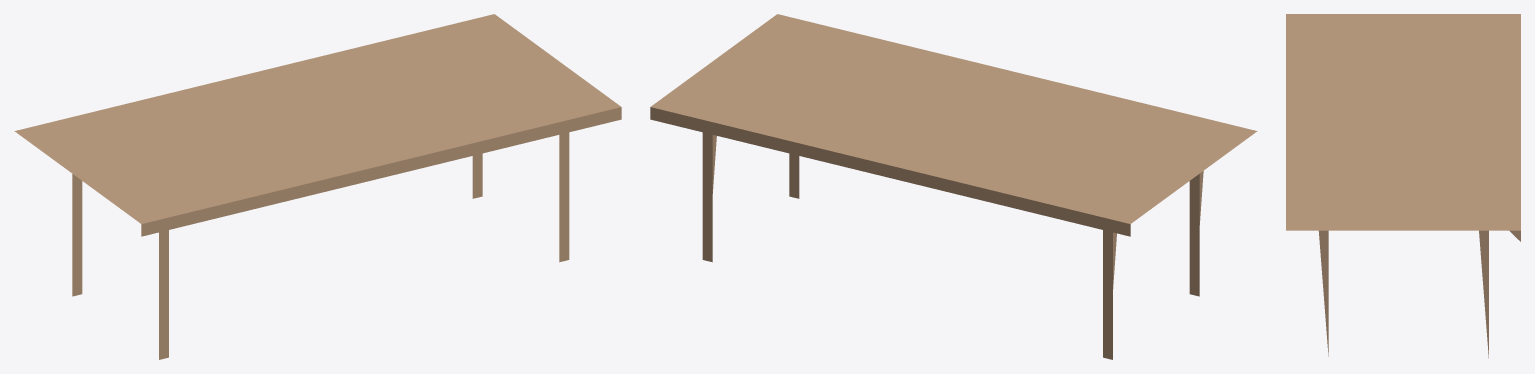
Rendered from conference-table.glb.
3 renders of one model, left to right at view 1: azimuth 30°, elevation 25°; view 2: azimuth 150°, elevation 25°; view 3: azimuth 270°, elevation 25°, orthographic. The views are drawn at different scales.
Bounding box in the file's own units: 2.4 × 0.75 × 1.1.
